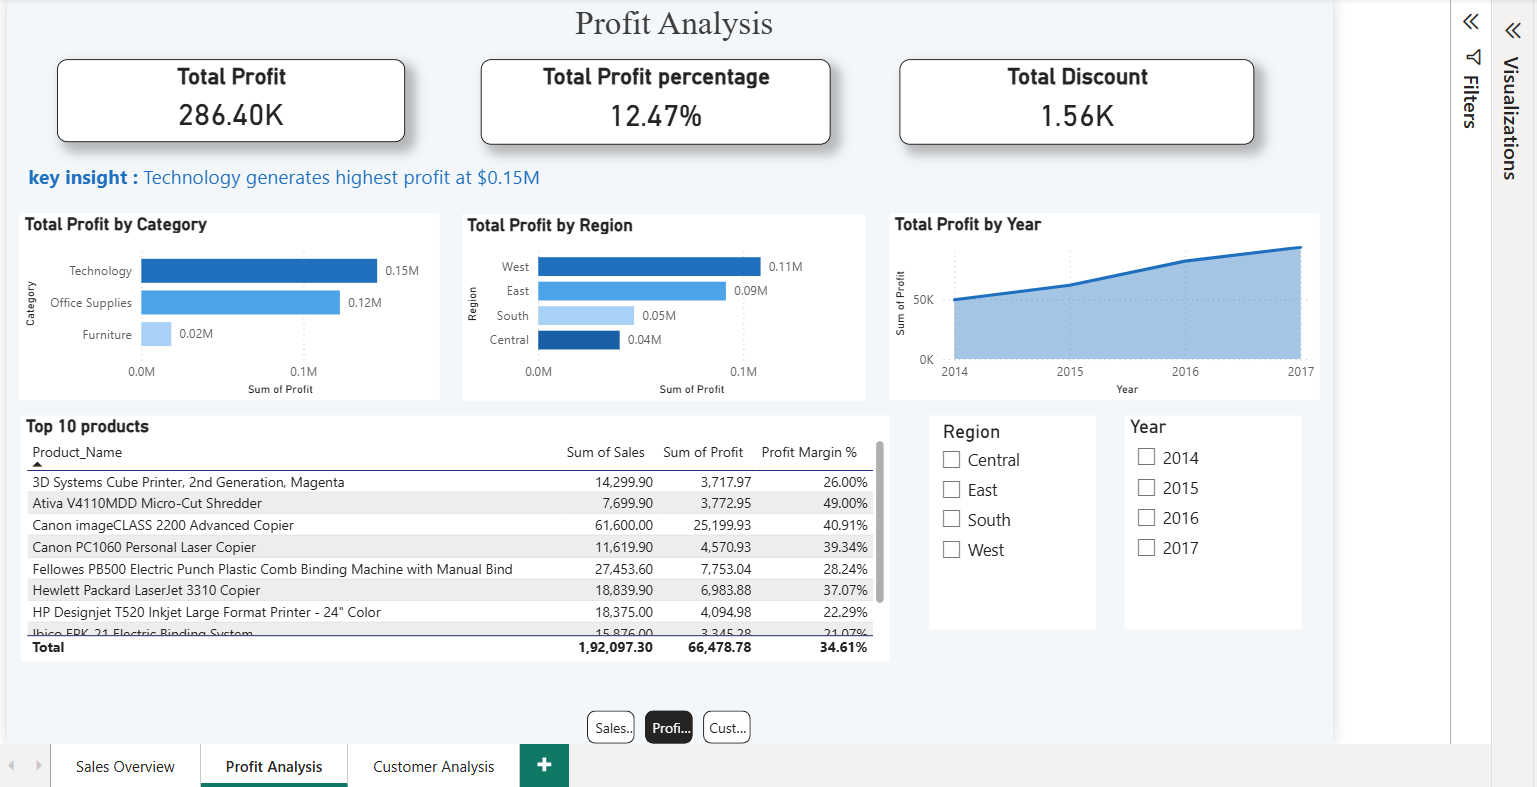

Layout of this report page (visuals, bound fields, positions):
{"tool":"powerbi","page":{"name":"Page 2","canvas":[1280,720],"ordinal":1},"visuals":[{"type":"card","title":"Total Profit","fields":{"Values":["Sum(Untitled spreadsheet - Sample -.Profit)"]},"box":[48,59.1,336,80],"z":0},{"type":"card","title":"Total Discount","fields":{"Values":["Sum(Untitled spreadsheet - Sample -.Discount)"]},"box":[861.4,59.1,342.6,82],"z":1000},{"type":"clusteredBarChart","title":"Total Profit by Category","fields":{"Category":["Untitled spreadsheet - Sample -.Category"],"Y":["Sum(Untitled spreadsheet - Sample -.Profit)"]},"box":[12.1,207.5,405.4,181],"z":2000},{"type":"barChart","title":"Total Profit by Region","fields":{"Category":["Untitled spreadsheet - Sample -.Region"],"Y":["Sum(Untitled spreadsheet - Sample -.Profit)"]},"box":[439.7,208.7,389.7,179.8],"z":3000},{"type":"areaChart","title":"Total Profit by Year","fields":{"Category":["Untitled spreadsheet - Sample -.Order_Date.Variation.Date Hierarchy.Year"],"Y":["Sum(Untitled spreadsheet - Sample -.Profit)"]},"box":[851.7,207.5,415,181],"z":4000},{"type":"slicer","fields":{"Values":["Untitled spreadsheet - Sample -.Region"]},"box":[890.4,403,160.5,206.3],"z":5000},{"type":"tableEx","title":"Top 10 products","fields":{"Values":["Untitled spreadsheet - Sample -.Product_Name","Sum(Untitled spreadsheet - Sample -.Sales)","Sum(Untitled spreadsheet - Sample -.Profit)","Untitled spreadsheet - Sample -.Profit Margin %"]},"box":[13.3,403,838.5,237.7],"z":6000},{"type":"textbox","box":[0,0,1280,58.8],"z":7000},{"type":"card","title":"Total Profit percentage","fields":{"Values":["Untitled spreadsheet - Sample -.Profit Margin %"]},"box":[456.6,59.1,337.8,82],"z":8000},{"type":"pageNavigator","box":[560,688,160,32],"z":9000},{"type":"slicer","title":"Year","fields":{"Values":["Untitled spreadsheet - Sample -.Order_Date.Variation.Date Hierarchy.Year"]},"box":[1078.6,403,171.3,206.3],"z":10000},{"type":"textbox","box":[15.7,154.4,528.4,37.4],"z":10001}]}

Visuals, with their boxes on the page's 1280x720 design canvas (x1, y1, x2, y2). These are canvas units, not pixel positions in the 1537x787 screenshot, which may show the page scaled, cropped or inside an application window:
"Total Profit" card: bbox=(48, 59, 384, 139)
"Total Discount" card: bbox=(861, 59, 1204, 141)
"Total Profit by Category" clusteredBarChart: bbox=(12, 208, 418, 388)
"Total Profit by Region" barChart: bbox=(440, 209, 829, 388)
"Total Profit by Year" areaChart: bbox=(852, 208, 1267, 388)
slicer - Untitled spreadsheet - Sample -.Region: bbox=(890, 403, 1051, 609)
"Top 10 products" tableEx: bbox=(13, 403, 852, 641)
textbox: bbox=(0, 0, 1280, 59)
"Total Profit percentage" card: bbox=(457, 59, 794, 141)
pageNavigator: bbox=(560, 688, 720, 720)
"Year" slicer: bbox=(1079, 403, 1250, 609)
textbox: bbox=(16, 154, 544, 192)
